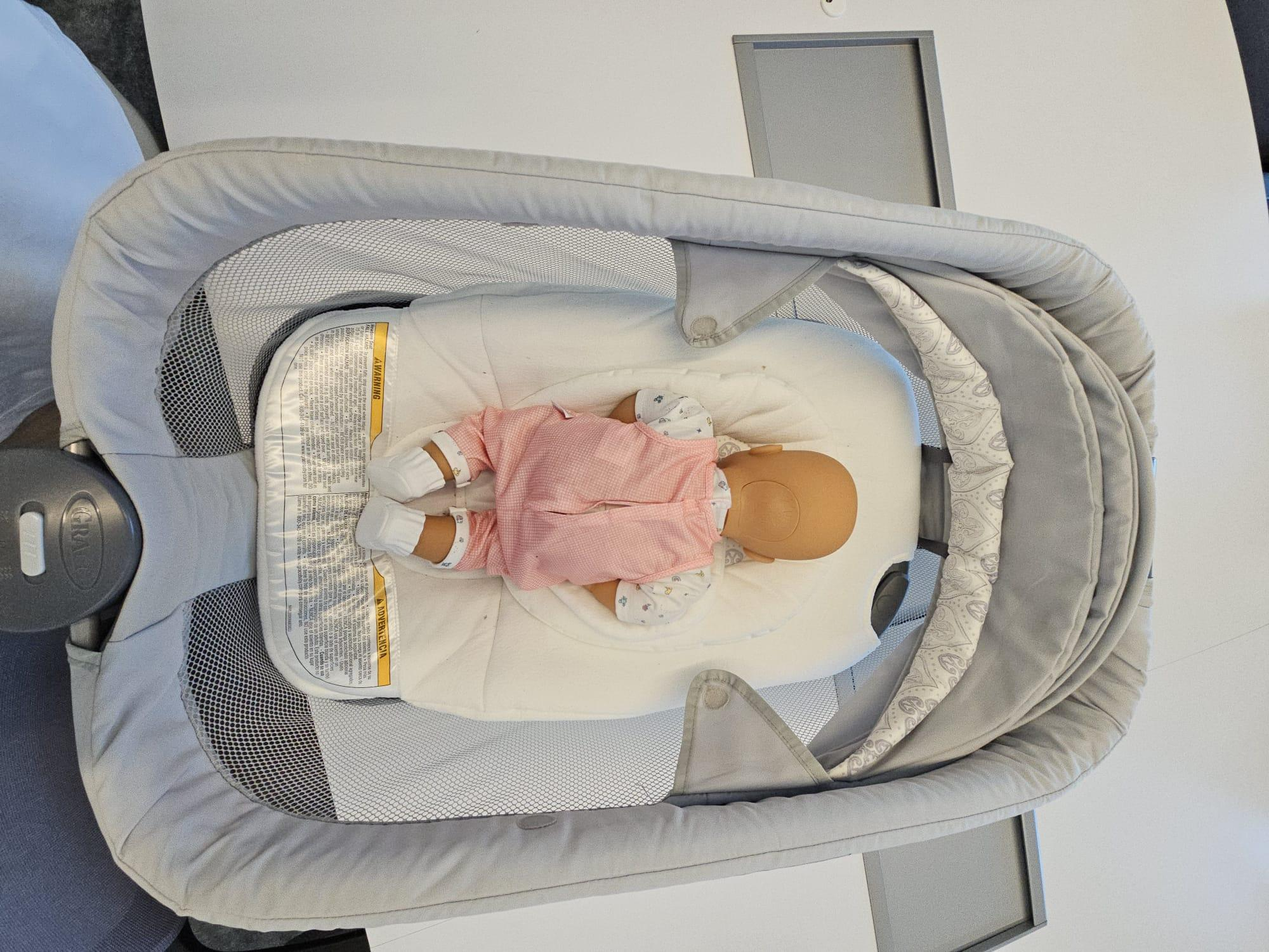baby: (321, 381, 884, 643)
